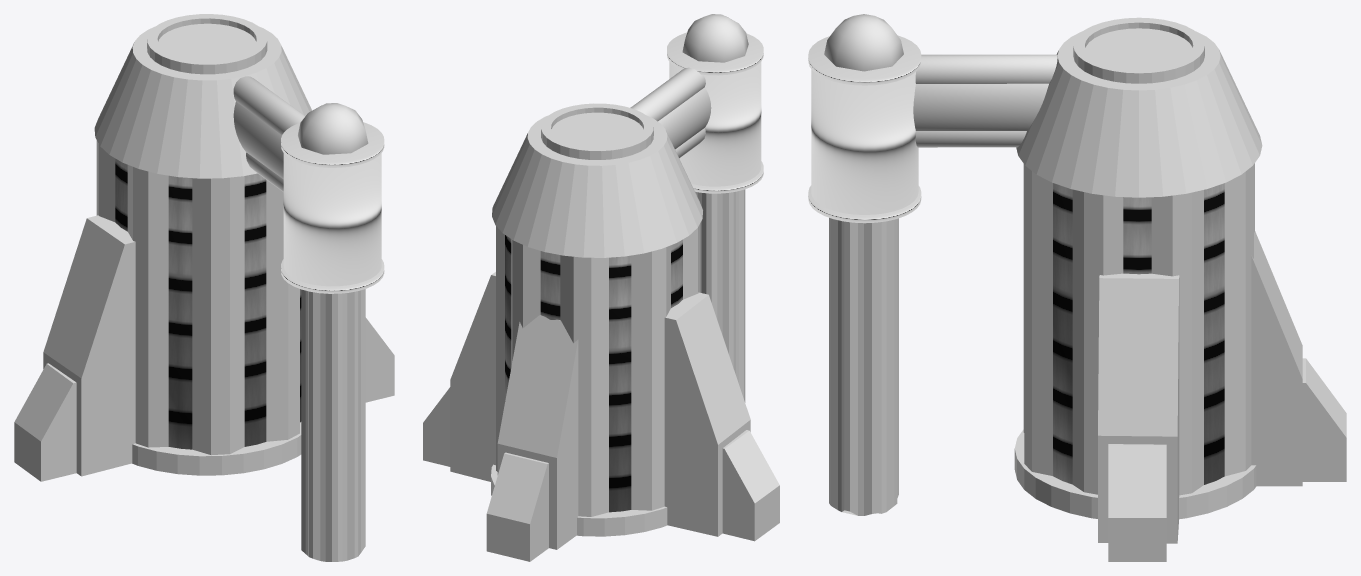
File: LavaDrill.fbx
3 renders of one model, left to right at view 1: azimuth 30°, elevation 25°; view 2: azimuth 150°, elevation 25°; view 3: azimuth 270°, elevation 25°, orthographic. The views are drawn at different scales.
Visible parts, largest first — view 1: Cylinder.001, Cube.005, Cylinder.003, Cylinder.008, Cylinder.007, Cylinder.002, Cylinder.005, Sphere, Circle, Cylinder.004, Cylinder.010, Cylinder.009; view 2: Cube.005, Cylinder.001, Cylinder.003, Cylinder.007, Cylinder.002, Cylinder.008, Cylinder.005, Sphere, Circle, Cylinder.010, Cylinder.004; view 3: Cube.005, Cylinder.001, Cylinder.003, Cylinder.008, Cylinder.007, Cylinder.002, Cylinder.004, Cylinder.010, Cylinder.005, Sphere, Circle, Cylinder.009.
Boxes of the visible parts, left/top/right/bottom form: Cylinder.001: left=96, top=140, right=299, bottom=455; Cube.005: left=14, top=215, right=394, bottom=481; Cylinder.003: left=94, top=26, right=311, bottom=475; Cylinder.008: left=301, top=289, right=365, bottom=561; Cylinder.007: left=281, top=122, right=384, bottom=293; Cylinder.002: left=115, top=158, right=301, bottom=449; Cylinder.005: left=147, top=14, right=267, bottom=74; Sphere: left=298, top=103, right=368, bottom=154; Circle: left=158, top=23, right=255, bottom=60; Cylinder.004: left=233, top=101, right=283, bottom=179; Cylinder.010: left=233, top=76, right=305, bottom=134; Cylinder.009: left=246, top=152, right=283, bottom=191; Cube.005: left=423, top=272, right=779, bottom=561; Cylinder.001: left=496, top=223, right=700, bottom=516; Cylinder.003: left=491, top=115, right=702, bottom=536; Cylinder.007: left=667, top=32, right=763, bottom=193; Cylinder.002: left=505, top=235, right=682, bottom=512; Cylinder.008: left=695, top=189, right=745, bottom=402; Cylinder.005: left=541, top=103, right=653, bottom=159; Sphere: left=682, top=14, right=748, bottom=62; Circle: left=551, top=112, right=643, bottom=146; Cylinder.010: left=630, top=67, right=705, bottom=121; Cylinder.004: left=658, top=87, right=711, bottom=149; Cube.005: left=1098, top=231, right=1346, bottom=561; Cylinder.001: left=1023, top=163, right=1254, bottom=495; Cylinder.003: left=1014, top=31, right=1262, bottom=519; Cylinder.008: left=829, top=218, right=898, bottom=515; Cylinder.007: left=808, top=35, right=921, bottom=223; Cylinder.002: left=1053, top=183, right=1224, bottom=484; Cylinder.004: left=913, top=83, right=1048, bottom=130; Cylinder.010: left=915, top=54, right=1057, bottom=83; Cylinder.005: left=1073, top=17, right=1204, bottom=83; Sphere: left=824, top=14, right=903, bottom=71; Circle: left=1085, top=28, right=1192, bottom=68; Cylinder.009: left=915, top=131, right=1026, bottom=147.
Bounding box in the file's own units: 1119 × 1343 × 1351.
